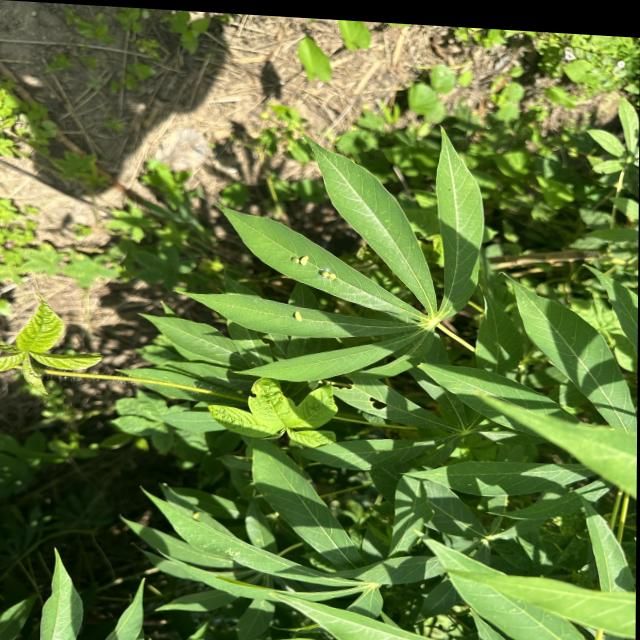Maleza: (487, 29, 636, 198), (199, 368, 344, 451), (9, 301, 106, 405)
Mosca: (316, 258, 338, 291), (287, 247, 311, 269), (287, 305, 307, 331), (187, 505, 205, 526)
